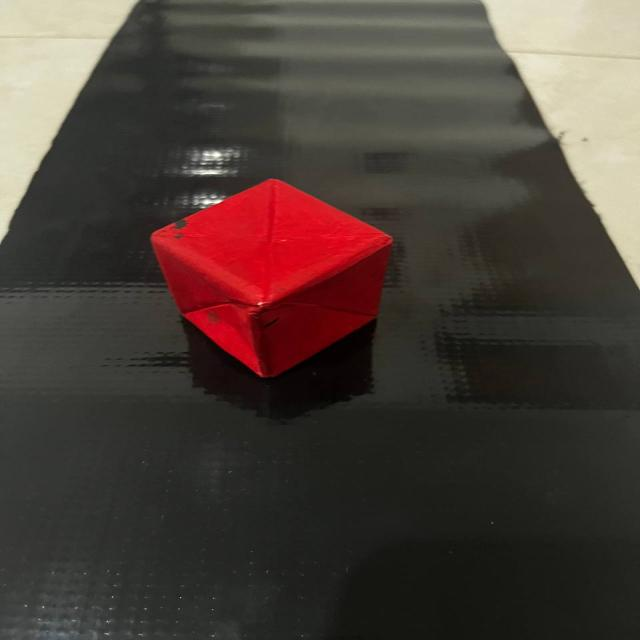Rojo: (138, 166, 405, 408)
